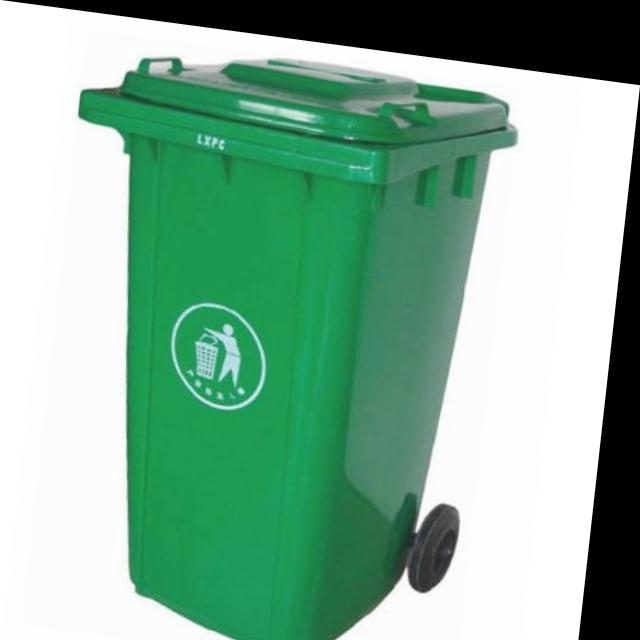garbage_bin: (36, 27, 522, 640)
